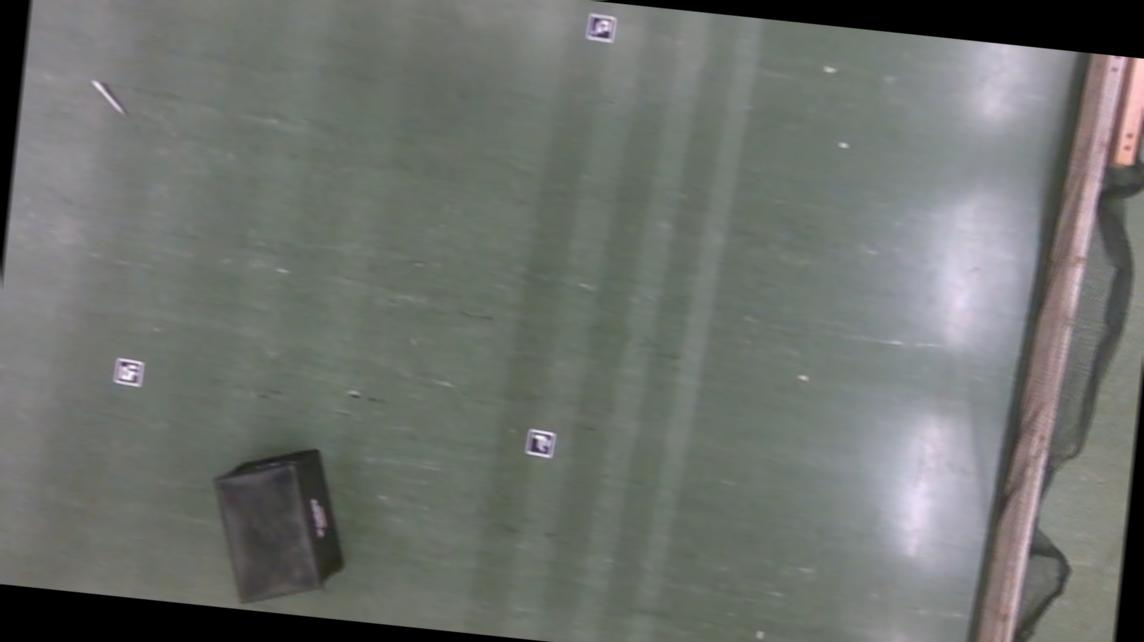probes: (88, 79, 129, 116)
rako: (202, 436, 356, 612)
